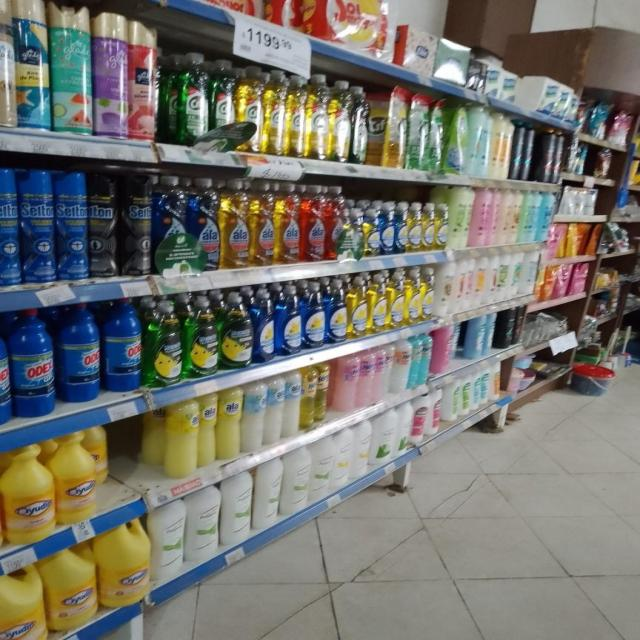ala_conc_amarillo: (220, 178, 249, 270), (250, 181, 275, 267), (276, 182, 300, 265)
ala_conc_azul: (152, 175, 189, 276), (190, 177, 219, 272)
ala_conc_rojo: (302, 185, 328, 262), (327, 185, 345, 261)
ala_crem_amarillo: (166, 398, 198, 478), (218, 387, 240, 460), (200, 392, 217, 467)
ala_crem_blanco: (242, 380, 265, 453), (266, 375, 284, 445), (284, 370, 301, 439)
cif_conc_bot_amarilla: (237, 65, 263, 155), (306, 74, 329, 160), (264, 70, 286, 156), (330, 80, 351, 162), (286, 73, 305, 158)
cif_conc_botella_verde: (178, 52, 209, 148), (210, 58, 236, 152), (162, 53, 179, 145)
heroe: (333, 354, 357, 414), (359, 348, 376, 407), (434, 324, 454, 374), (394, 337, 411, 394), (412, 330, 429, 387), (302, 364, 316, 432), (317, 360, 330, 424), (376, 345, 388, 404), (385, 342, 394, 399)
magistral_con_amarillo: (348, 275, 368, 338), (369, 272, 387, 334), (388, 270, 405, 330), (346, 204, 363, 259), (364, 202, 380, 257), (436, 264, 451, 317), (406, 268, 420, 324), (421, 266, 435, 321), (408, 202, 422, 252), (435, 202, 449, 251), (423, 202, 435, 251)
magistral_con_azul: (277, 284, 301, 356), (254, 287, 275, 363), (302, 280, 324, 348), (0, 314, 12, 431), (326, 278, 347, 344), (381, 201, 395, 255), (395, 201, 408, 254)
